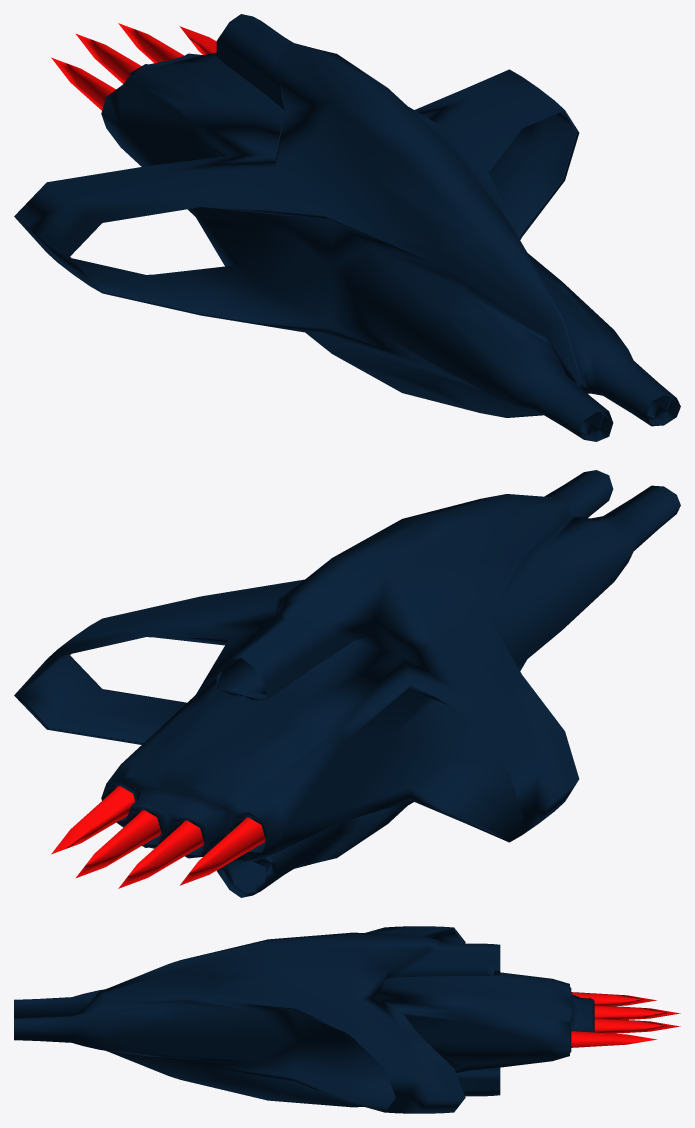
The model's file is SpaceStealthCannonBomber-fix.obj.
3 renders of one model, top to bottom at view 1: azimuth 30°, elevation 25°; view 2: azimuth 150°, elevation 25°; view 3: azimuth 270°, elevation 25°, orthographic. The views are drawn at different scales.
Parts seen in each view (by area): view 1: objg0; view 2: objg0; view 3: objg0.
Part boxes in pixels (x1,y1,x2,y2): objg0: (14,14,680,441); objg0: (14,470,680,897); objg0: (14,926,680,1113).
Size of the model in its own units: 32 by 16 by 57.58.
